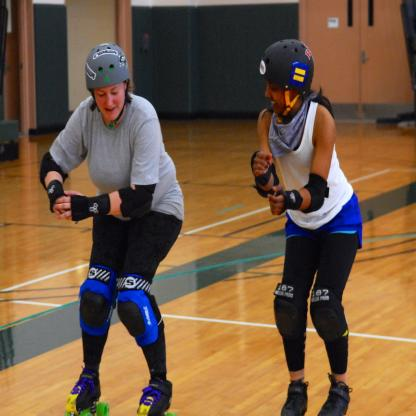Helmet: (260, 34, 320, 118), (86, 42, 128, 124)
